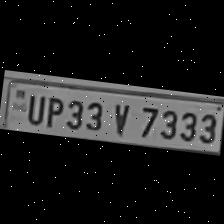3: (80, 95, 108, 131), (154, 103, 178, 138), (194, 108, 218, 143), (62, 93, 84, 129), (176, 106, 198, 140)
7: (132, 100, 158, 138)
P: (42, 92, 64, 128)
U: (22, 89, 46, 124)
V: (105, 98, 134, 136)
